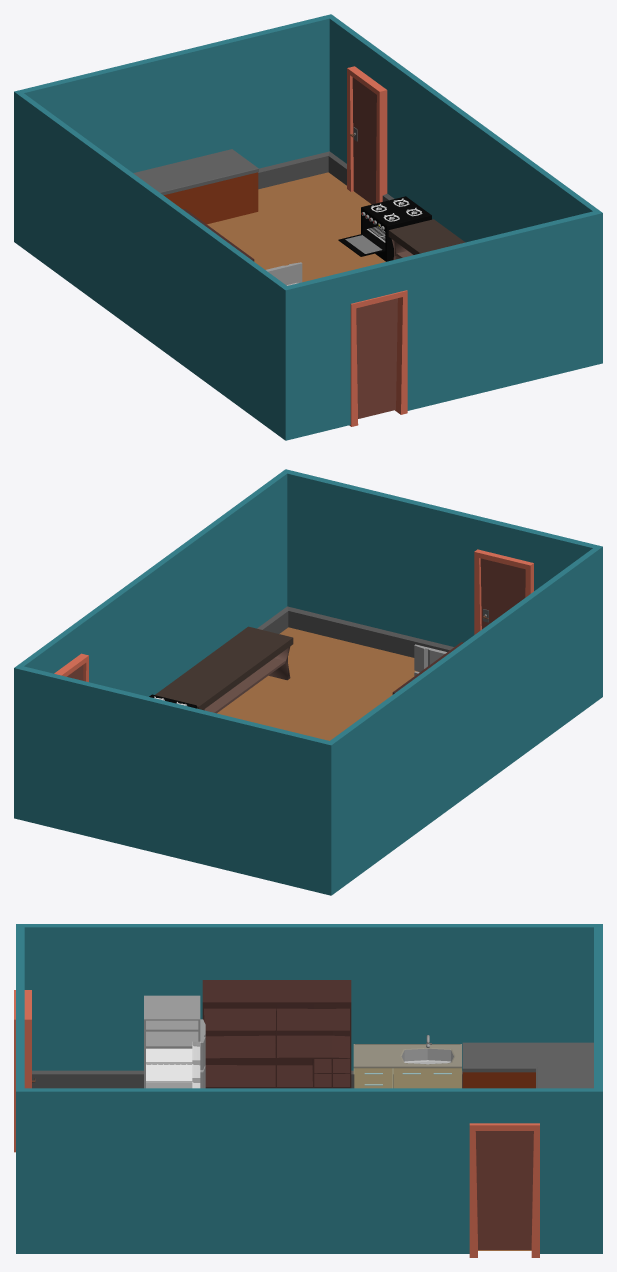
File: Cozinha_por_partes.fbx
3 renders of one model, top to bottom at view 1: azimuth 30°, elevation 25°; view 2: azimuth 150°, elevation 25°; view 3: azimuth 270°, elevation 25°, orthographic. The views are drawn at different scales.
Visible parts, largest first — view 1: Paredes Cozinha.001, Paredes Cozinha.004, Paredes Cozinha.002, Paredes Cozinha.003, chão.001, Porta 2.001, Balcão.001, Porta.001, Fogão.001, Mesa.001, Geladeira.003; view 2: Paredes Cozinha.002, Paredes Cozinha.001, Paredes Cozinha.004, Paredes Cozinha.003, chão.001, Mesa.001, Porta 2.001, Porta.001, Geladeira.003; view 3: Paredes Cozinha.003, Paredes Cozinha.001, Estante.001, Porta.001, Balcão.001, Geladeira.003, Pia.001, Paredes Cozinha.002, Paredes Cozinha.004, Porta 2.001.
Part boxes in pixels (x1,y1,x2,y2): Paredes Cozinha.001: [14, 91, 286, 440]; Paredes Cozinha.004: [285, 211, 602, 440]; Paredes Cozinha.002: [14, 14, 330, 189]; Paredes Cozinha.003: [328, 14, 602, 242]; chão.001: [207, 172, 385, 282]; Porta 2.001: [349, 290, 407, 426]; Balcão.001: [133, 149, 258, 224]; Porta.001: [347, 66, 387, 204]; Fogão.001: [338, 196, 431, 261]; Mesa.001: [388, 219, 465, 259]; Geladeira.003: [266, 262, 302, 285]; Paredes Cozinha.002: [14, 666, 331, 895]; Paredes Cozinha.001: [330, 546, 602, 895]; Paredes Cozinha.004: [286, 469, 602, 657]; Paredes Cozinha.003: [14, 469, 288, 696]; chão.001: [217, 627, 418, 740]; Mesa.001: [155, 626, 293, 713]; Porta 2.001: [474, 549, 533, 634]; Porta.001: [54, 653, 88, 681]; Geladeira.003: [414, 644, 446, 675]; Paredes Cozinha.003: [16, 1088, 602, 1253]; Paredes Cozinha.001: [16, 924, 602, 1088]; Estante.001: [202, 980, 351, 1088]; Porta.001: [469, 1123, 539, 1257]; Balcão.001: [462, 1042, 593, 1088]; Geladeira.003: [144, 995, 205, 1088]; Pia.001: [353, 1035, 461, 1088]; Paredes Cozinha.002: [594, 924, 602, 1091]; Paredes Cozinha.004: [16, 924, 24, 1091]; Porta 2.001: [14, 990, 35, 1152].
Size of the model in its own units: 1427 by 644 by 2094.
